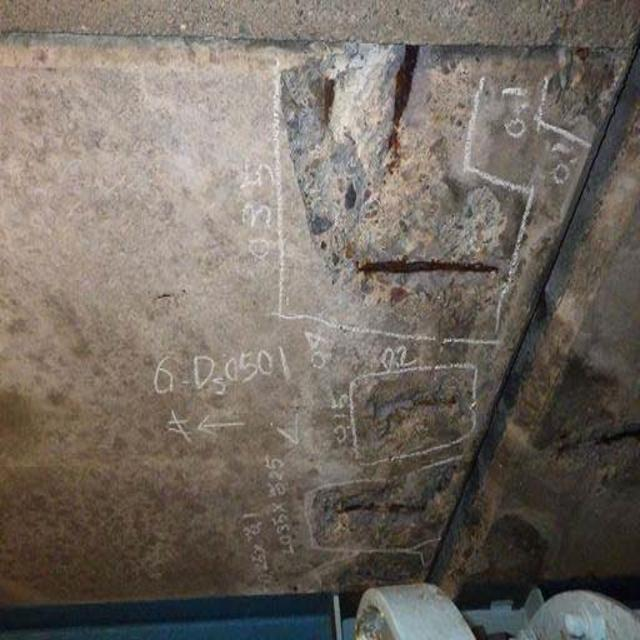spalling: (284, 27, 514, 323), (292, 360, 472, 550)
